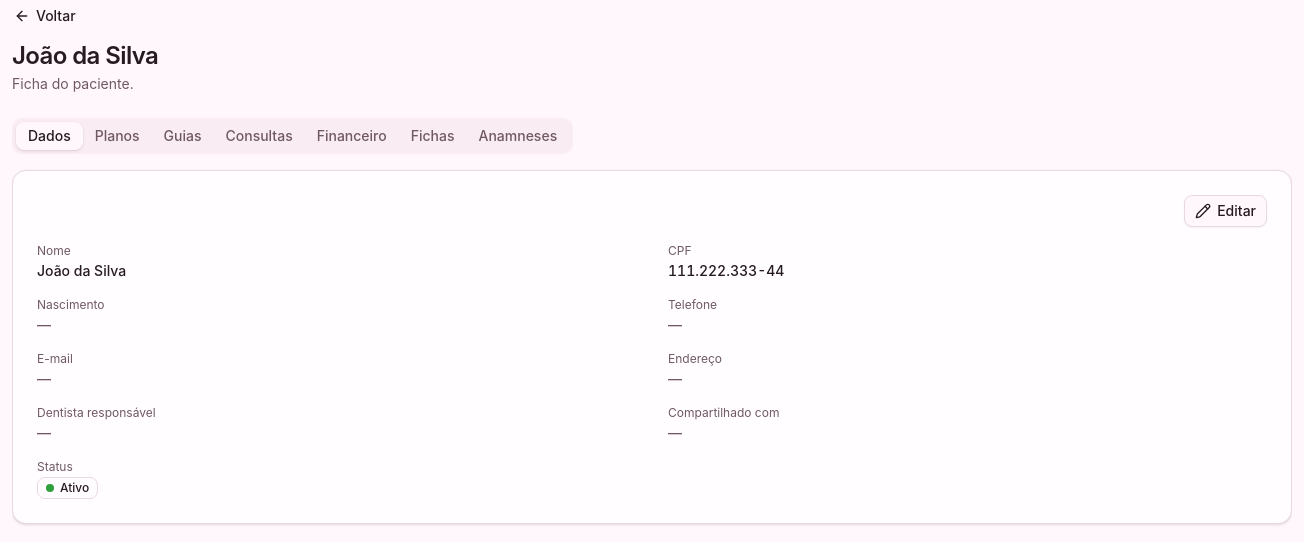
Test: PacienteDetalhePage › aba Planos lista os planos do paciente
Click the tab "Planos" at x=117, y=136, box [83,122,152,150]
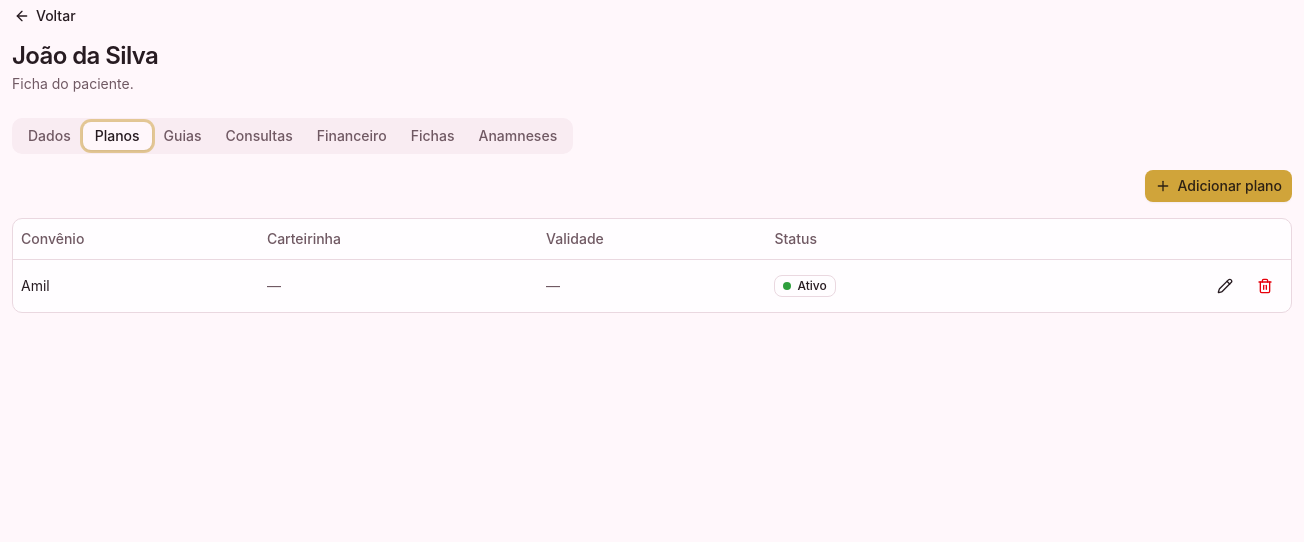
Now the text "Amil" is shown, box [13,259,259,312]
